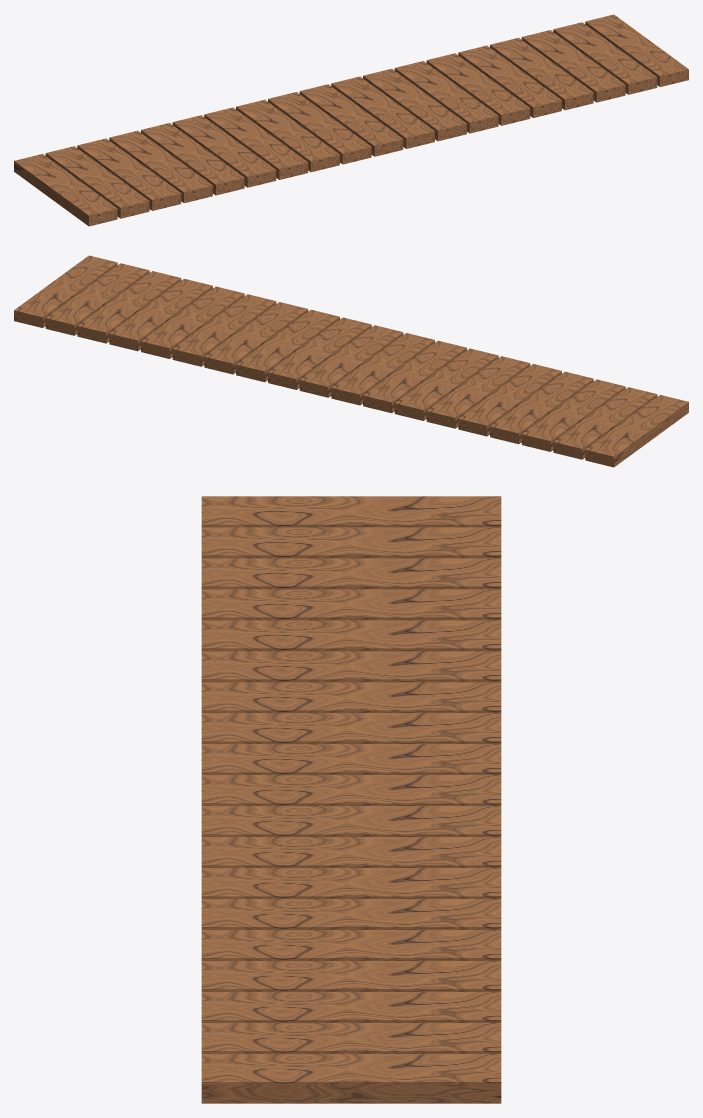
The model's file is bridge.fbx.
3 renders of one model, top to bottom at view 1: azimuth 30°, elevation 25°; view 2: azimuth 150°, elevation 25°; view 3: azimuth 270°, elevation 25°, orthographic. The views are drawn at different scales.
Visible parts, largest first — view 1: Cube; view 2: Cube; view 3: Cube.
Part boxes in pixels (box(x1,y1,x2,y2)): Cube: box(14, 14, 688, 226); Cube: box(14, 255, 688, 467); Cube: box(201, 496, 501, 1103).
Bounding box in the file's own units: 5282 × 91.05 × 1143.
